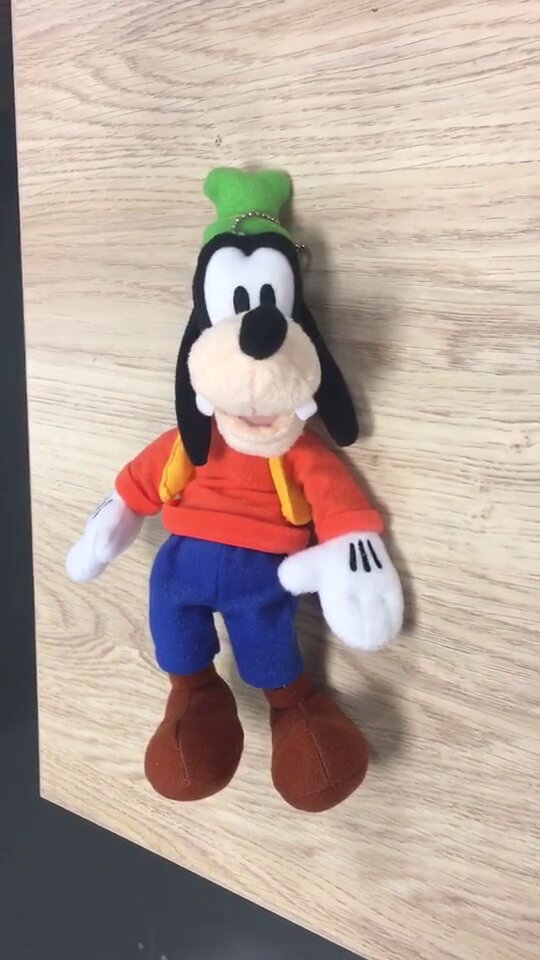goofy: (64, 161, 413, 815)
